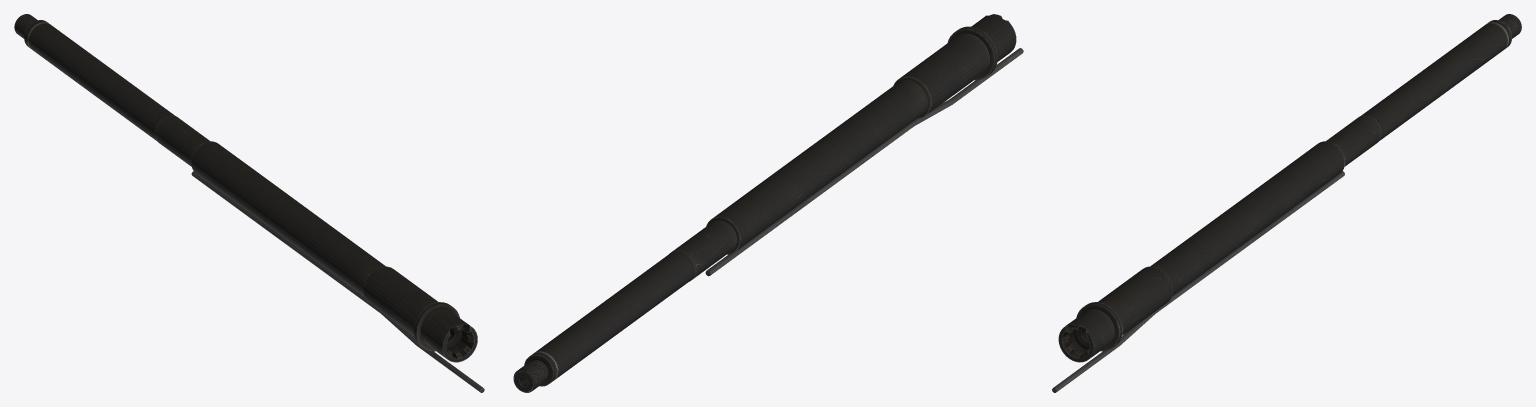
The picture shows the model from 3 angles, left to right: view 1: azimuth 30°, elevation 25°; view 2: azimuth 150°, elevation 25°; view 3: azimuth 330°, elevation 25°; orthographic projection. The views are drawn at different scales.
Visible parts, largest first — view 1: TW_5d440b9fa4b93601354d480c_PZ_Import; view 2: TW_5d440b9fa4b93601354d480c_PZ_Import; view 3: TW_5d440b9fa4b93601354d480c_PZ_Import.
Part boxes in pixels (x1=…): TW_5d440b9fa4b93601354d480c_PZ_Import: x1=14, y1=14, x2=484, y2=392; TW_5d440b9fa4b93601354d480c_PZ_Import: x1=513, y1=14, x2=1023, y2=392; TW_5d440b9fa4b93601354d480c_PZ_Import: x1=1052, y1=14, x2=1521, y2=392.
Bounding box in the file's own units: 0.0171 × 0.3084 × 0.0208.
1 material, 1 textured.
